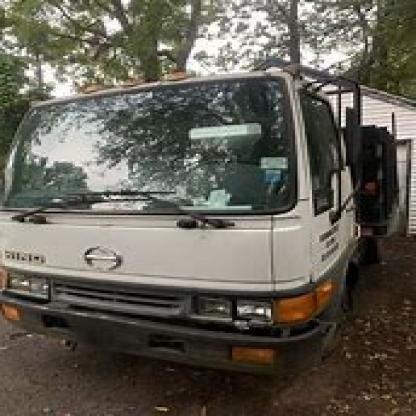dump_truck: (2, 70, 402, 394)
